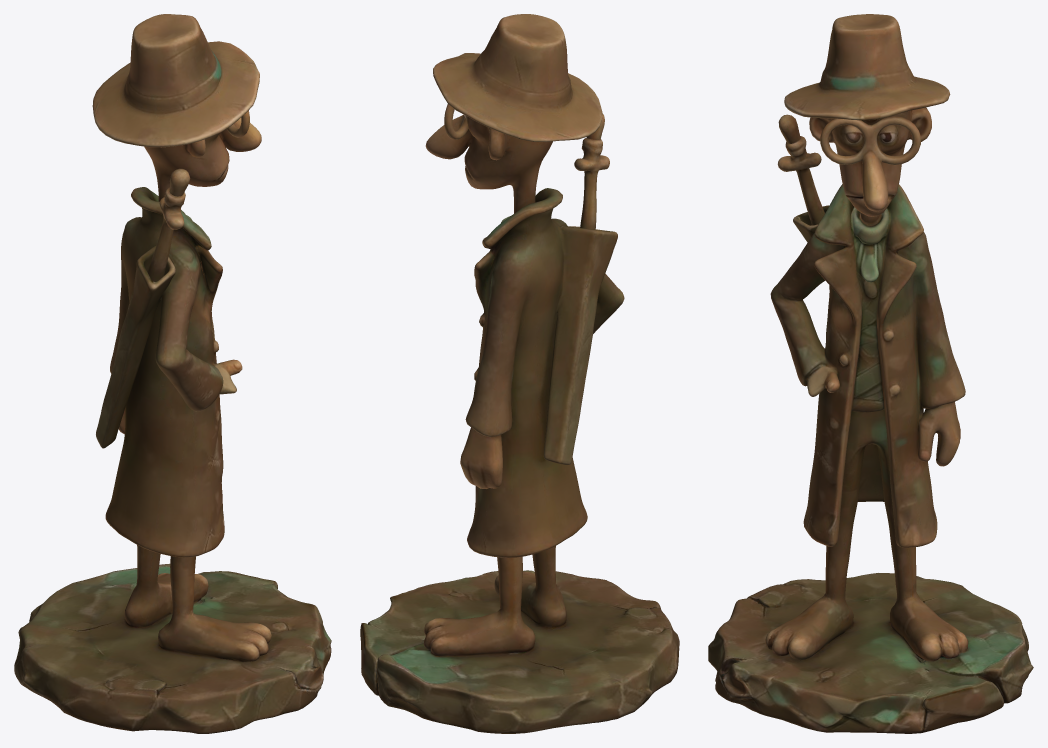
The model's file is tomsk_chekhov.glb.
3 renders of one model, left to right at view 1: azimuth 30°, elevation 25°; view 2: azimuth 150°, elevation 25°; view 3: azimuth 270°, elevation 25°, orthographic.
Visible parts, largest first — view 1: tripo_node_39101064-5377-4ed0-8f91-7448986af760; view 2: tripo_node_39101064-5377-4ed0-8f91-7448986af760; view 3: tripo_node_39101064-5377-4ed0-8f91-7448986af760.
Part boxes in pixels (x1,y1,x2,y2): tripo_node_39101064-5377-4ed0-8f91-7448986af760: (14, 14, 331, 733); tripo_node_39101064-5377-4ed0-8f91-7448986af760: (360, 14, 679, 733); tripo_node_39101064-5377-4ed0-8f91-7448986af760: (708, 14, 1033, 733).
Size of the model in its own units: 0.4416 by 0.979 by 0.4462.
Materials: 1 (1 with a texture image).
